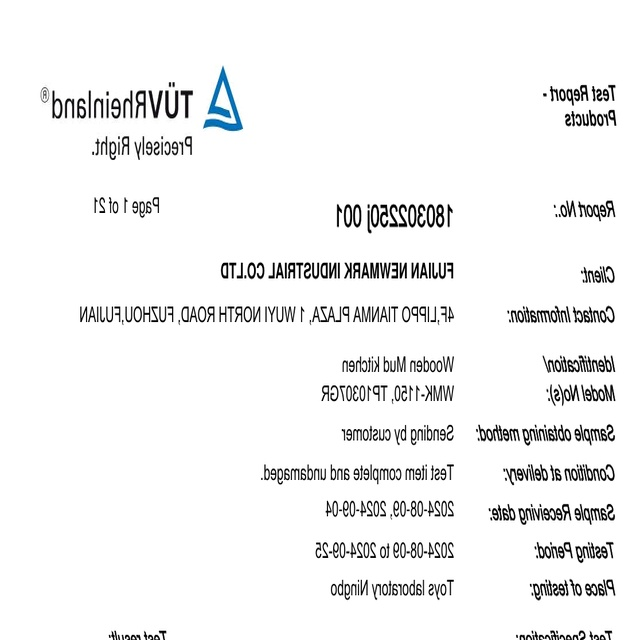tuv_rheinland: (38, 64, 243, 135)
